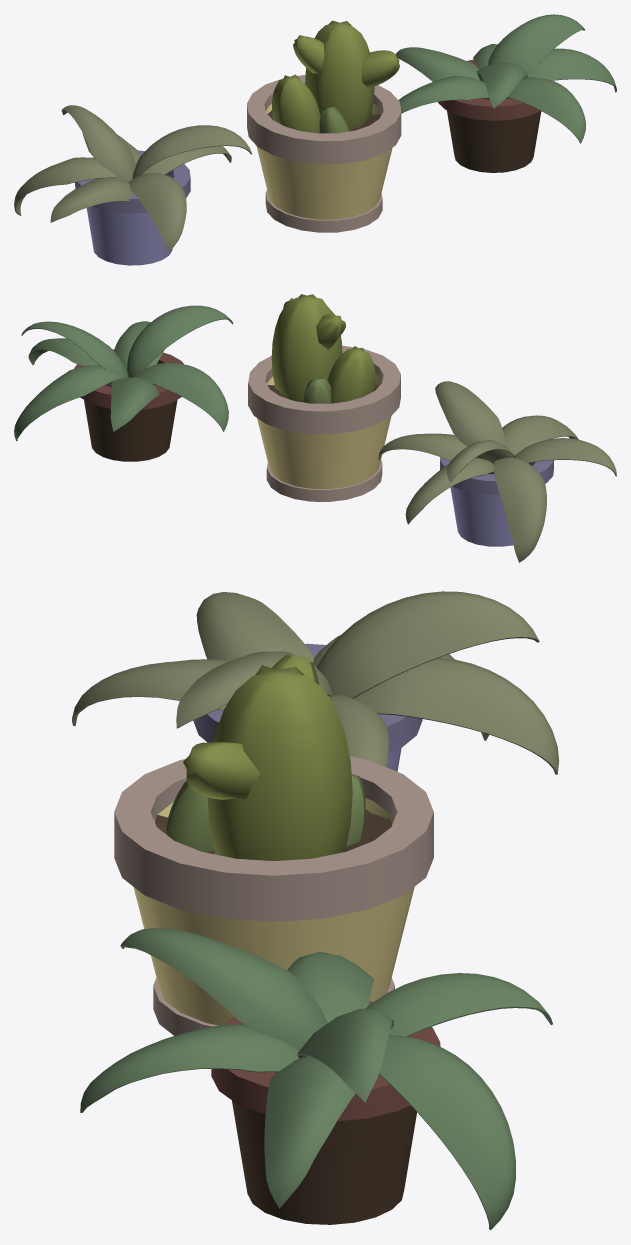
The model's file is colored plants deskroom2.fbx.
3 renders of one model, top to bottom at view 1: azimuth 30°, elevation 25°; view 2: azimuth 150°, elevation 25°; view 3: azimuth 270°, elevation 25°, orthographic. The views are drawn at different scales.
Visible parts, largest first — view 1: polySurface2, polySurface3, polySurface5, polySurface15, polySurface25, polySurface17, polySurface21, polySurface16, polySurface27, polySurface29, polySurface6, polySurface12 (+12 smaller); view 2: polySurface2, polySurface3, polySurface5, polySurface15, polySurface28, polySurface19, polySurface29, polySurface25, polySurface11, polySurface18, polySurface6, polySurface30 (+13 smaller); view 3: polySurface3, polySurface5, polySurface2, polySurface15, polySurface27, polySurface18, polySurface19, polySurface22, polySurface12, polySurface16, polySurface20, polySurface30 (+12 smaller).
Part boxes in pixels (box(x1,y1,x2,y2)): polySurface2: box(256, 104, 392, 219); polySurface3: box(247, 74, 401, 164); polySurface5: box(305, 20, 374, 129); polySurface15: box(447, 110, 541, 172); polySurface25: box(86, 173, 172, 265); polySurface17: box(488, 14, 584, 73); polySurface21: box(128, 173, 186, 251); polySurface16: box(489, 77, 585, 143); polySurface27: box(61, 105, 135, 182); polySurface29: box(132, 125, 251, 179); polySurface6: box(272, 74, 320, 133); polySurface12: box(527, 48, 616, 92); polySurface2: box(257, 374, 391, 488); polySurface3: box(248, 345, 400, 434); polySurface5: box(271, 294, 342, 402); polySurface15: box(84, 399, 177, 461); polySurface28: box(494, 457, 546, 562); polySurface19: box(127, 305, 233, 377); polySurface29: box(435, 381, 505, 446); polySurface25: box(450, 462, 535, 546); polySurface11: box(133, 362, 228, 431); polySurface18: box(14, 365, 121, 441); polySurface6: box(327, 346, 375, 403); polySurface30: box(514, 438, 616, 476); polySurface3: box(114, 756, 433, 921); polySurface5: box(207, 665, 352, 860); polySurface2: box(133, 798, 414, 1025); polySurface15: box(232, 1100, 416, 1224); polySurface27: box(316, 591, 539, 698); polySurface18: box(379, 1035, 515, 1230); polySurface19: box(120, 928, 327, 1050); polySurface22: box(354, 657, 559, 774); polySurface12: box(264, 1056, 355, 1208); polySurface16: box(80, 1023, 298, 1112); polySurface20: box(365, 973, 552, 1036); polySurface30: box(196, 592, 313, 662).
Size of the model in its own units: 0.3757 by 0.1125 by 0.1385.
